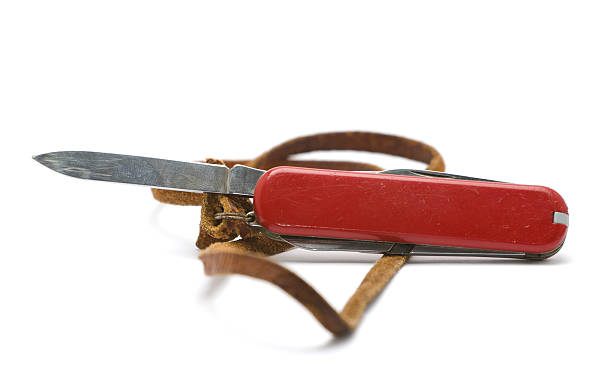knife: (30, 148, 233, 196)
